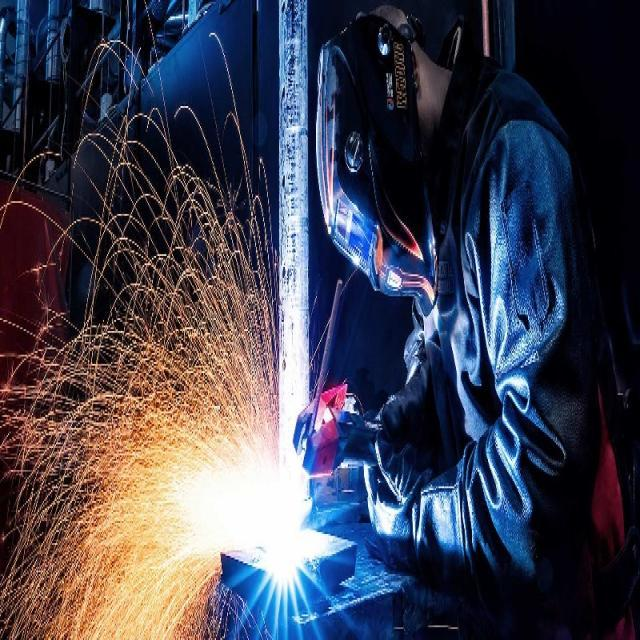with_helmet: (318, 3, 600, 634)
